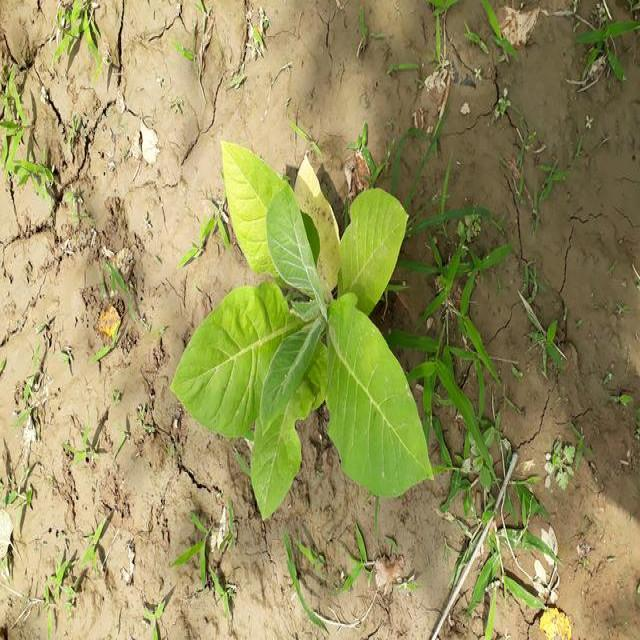crop: (178, 144, 432, 532)
